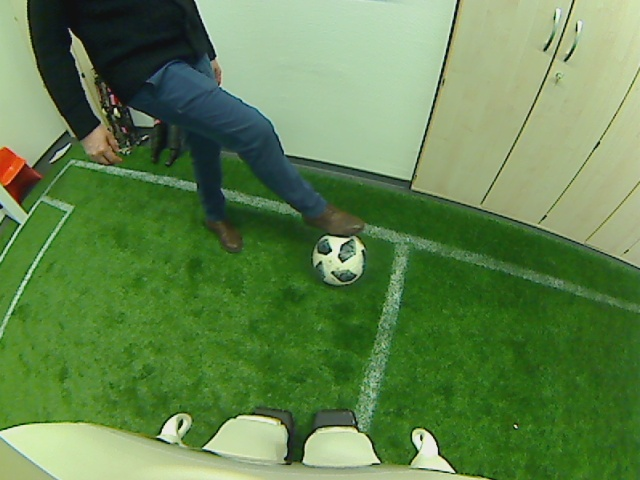ball: (309, 229, 367, 289)
